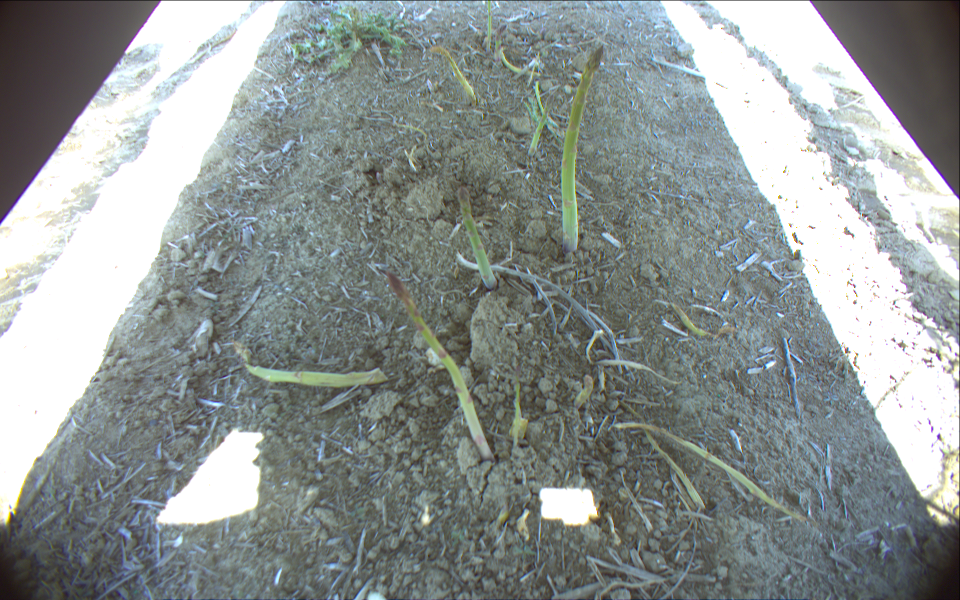aspa: (383, 269, 496, 465), (560, 45, 606, 254), (452, 183, 498, 292), (427, 45, 479, 104), (485, 1, 495, 51)
